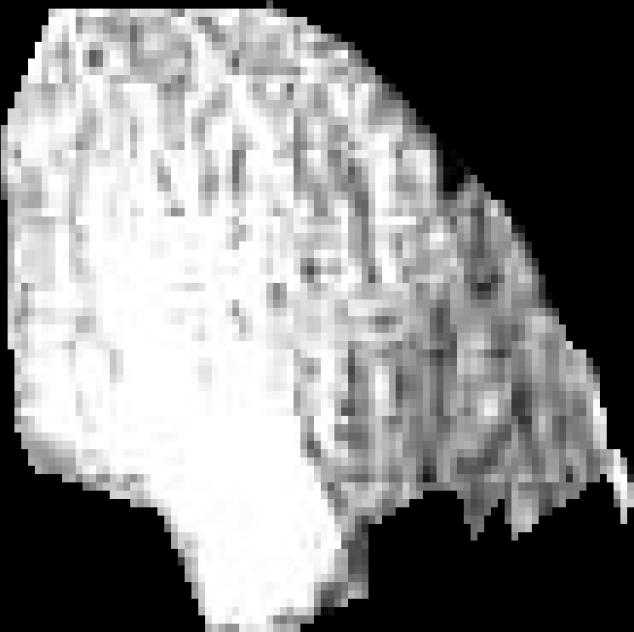tumor_good_chance: (1, 0, 634, 632)
